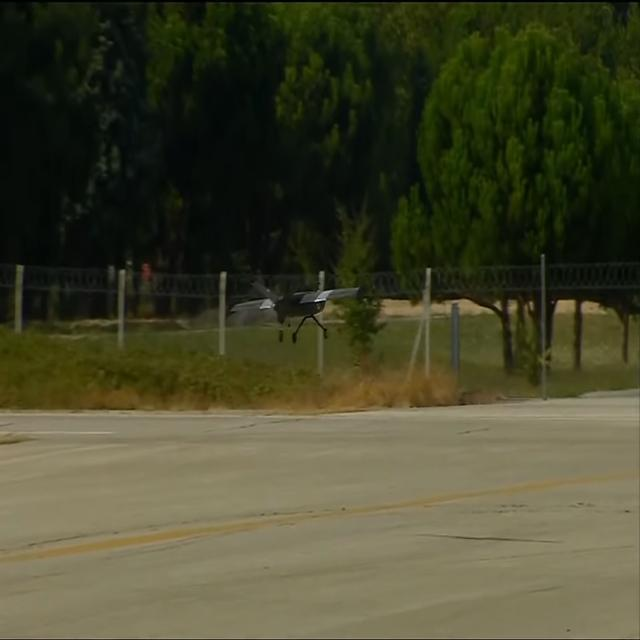iha: (263, 281, 326, 344)
